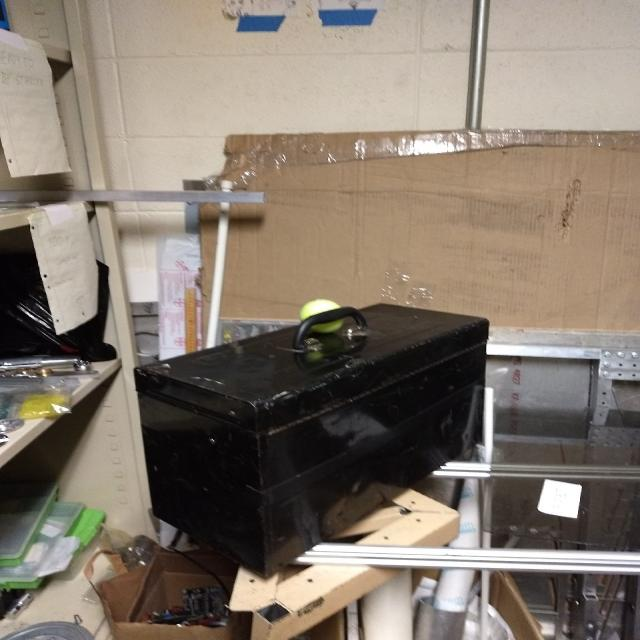Tennis-Ball: (300, 298, 347, 331)
